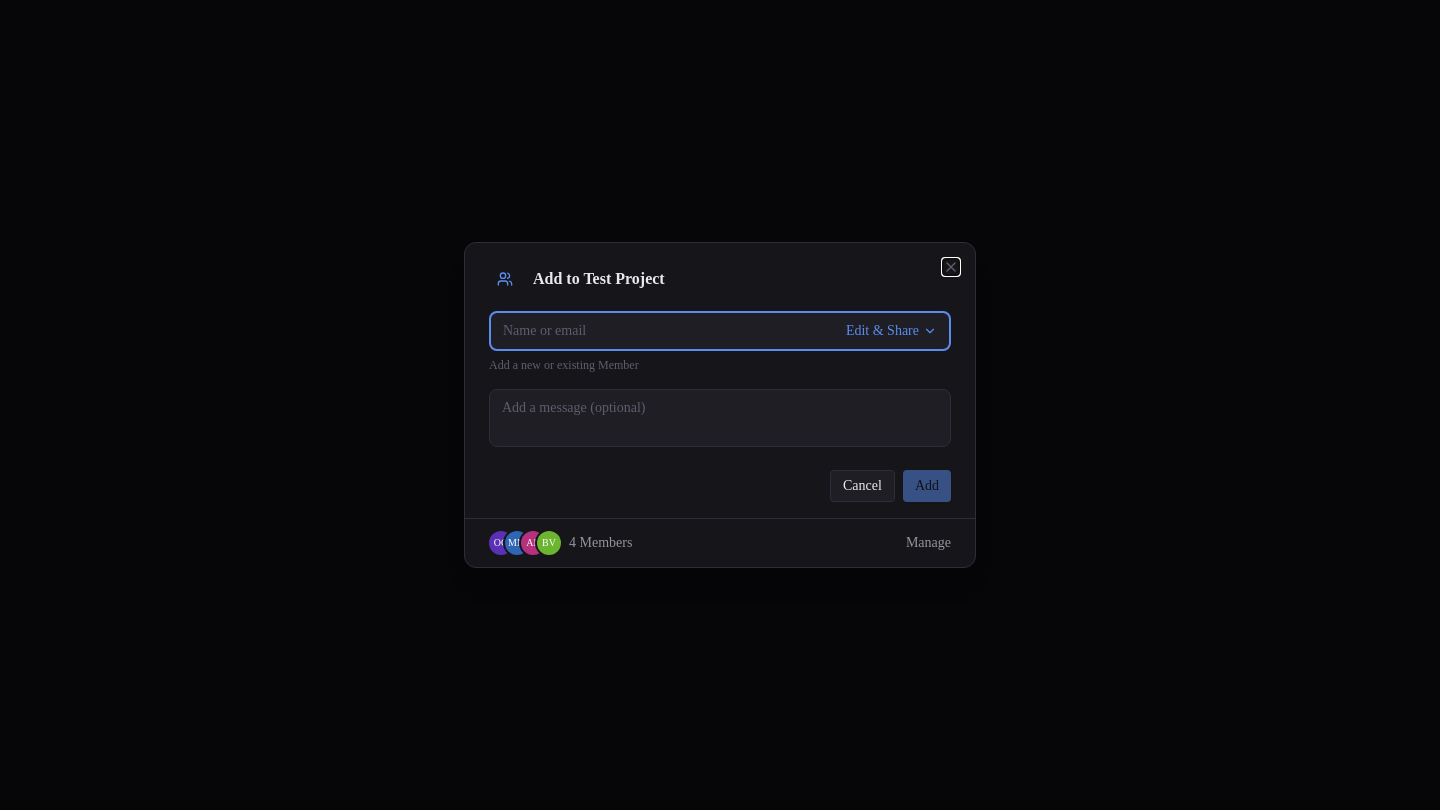
Test: multi-select checkboxes › omits the checkbox for the owner and for yourself
Check: the field with placeholder "Name or email" is shown, box [503,321,838,341]
Step 1. Click the button "Manage" → (928, 543), box [906,533,951,553]
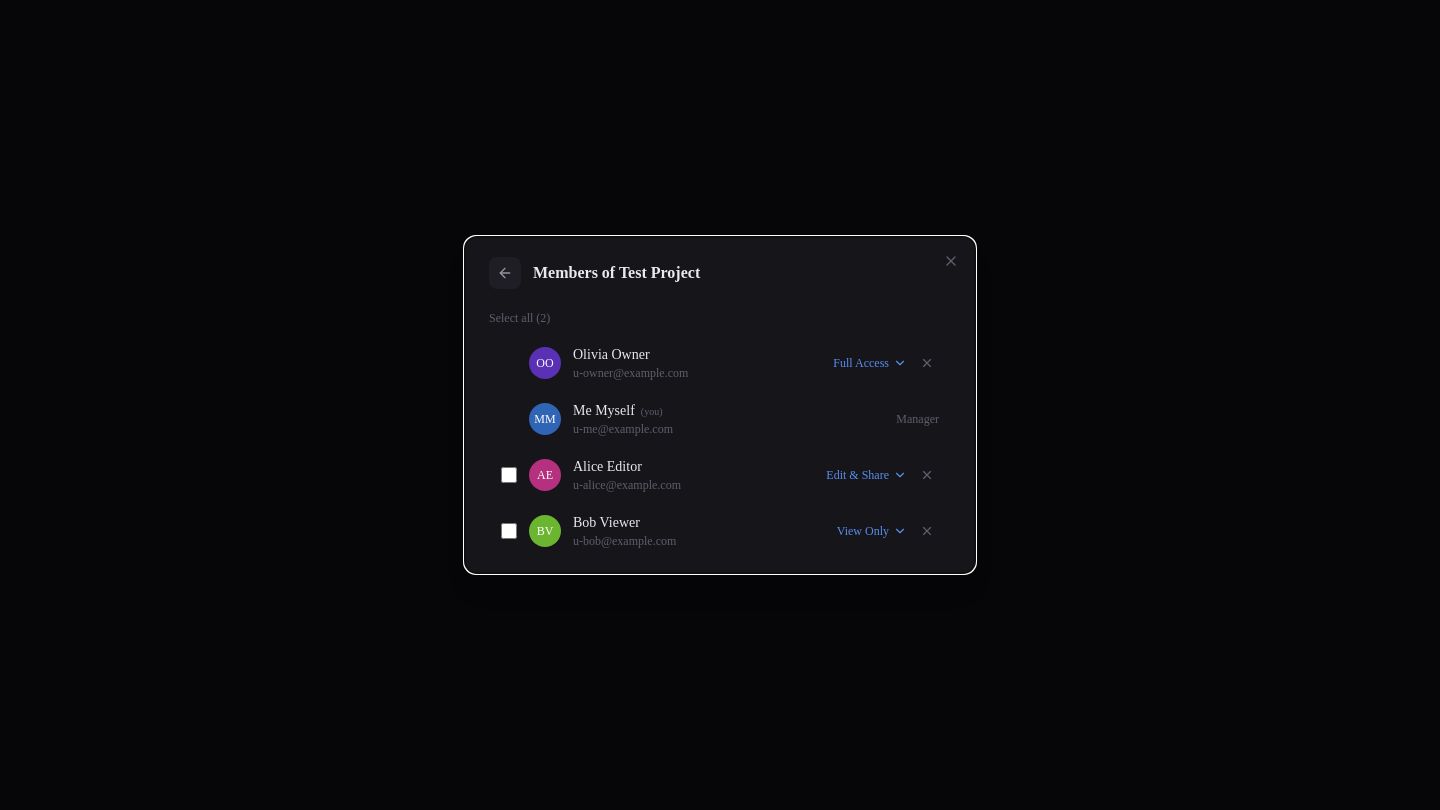
Check: the checkbox named "Select Alice Editor" is shown, box [501,467,517,483]
Check: the checkbox named "Select Bob Viewer" is shown, box [501,523,517,539]
